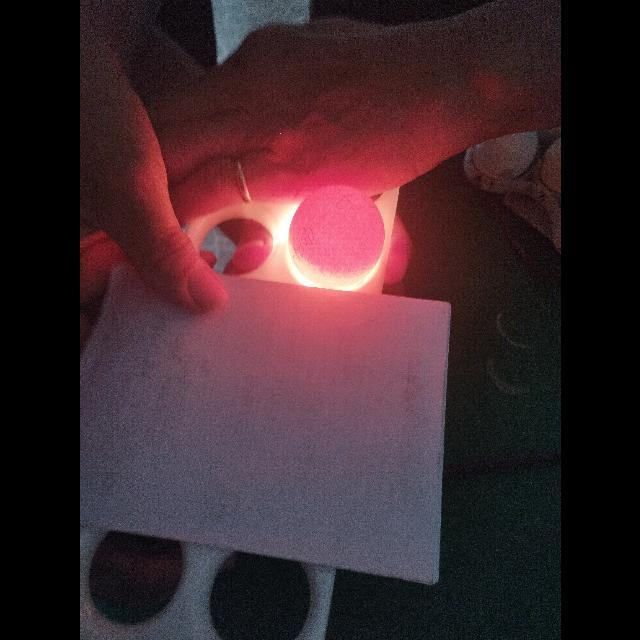Infertile: (290, 190, 382, 282)
